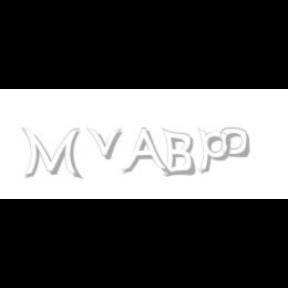A: (121, 128, 169, 176)
B: (161, 128, 195, 178)
M: (22, 128, 80, 180)
o: (220, 128, 250, 158)
p: (198, 128, 234, 174)
v: (86, 128, 126, 160)
